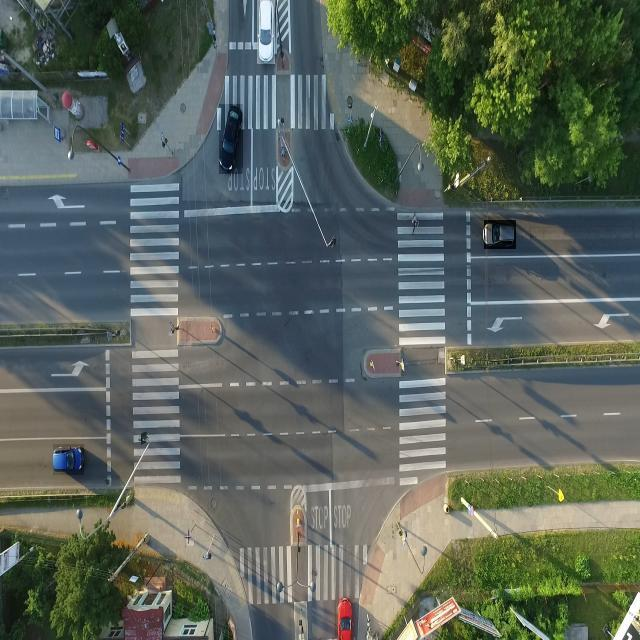car: (219, 105, 243, 171), (258, 1, 276, 63), (480, 220, 516, 245), (52, 448, 82, 471), (337, 599, 352, 640)
